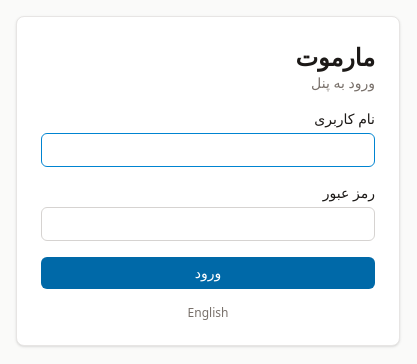
Test: LoginPage › switches to English
Click the button "English" at {"x": 208, "y": 313}, box top-left (41, 305), bottom-right (375, 321)
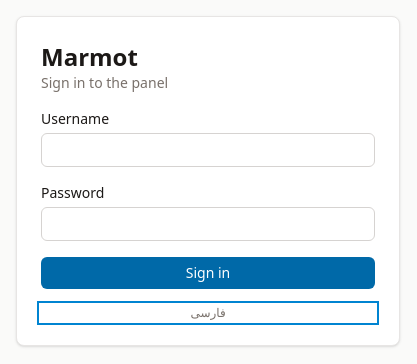
Check: the heading "Sign in to the panel" is shown, box top-left (41, 73), bottom-right (168, 92)
